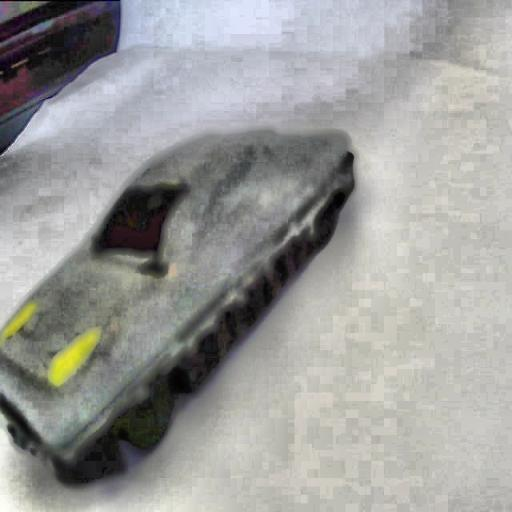normal_car: (0, 126, 354, 487)
